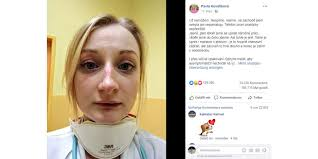mask_weared_incorrect: (82, 48, 141, 136)
